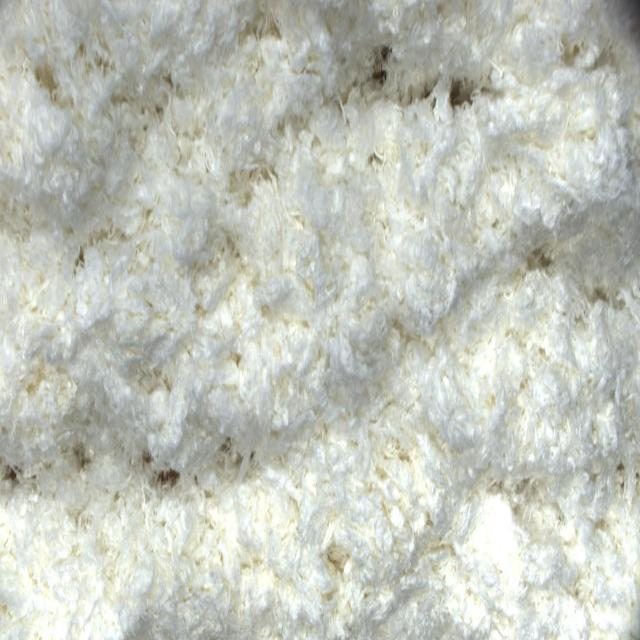dust: (449, 66, 477, 113), (368, 43, 392, 92), (151, 467, 183, 495)
